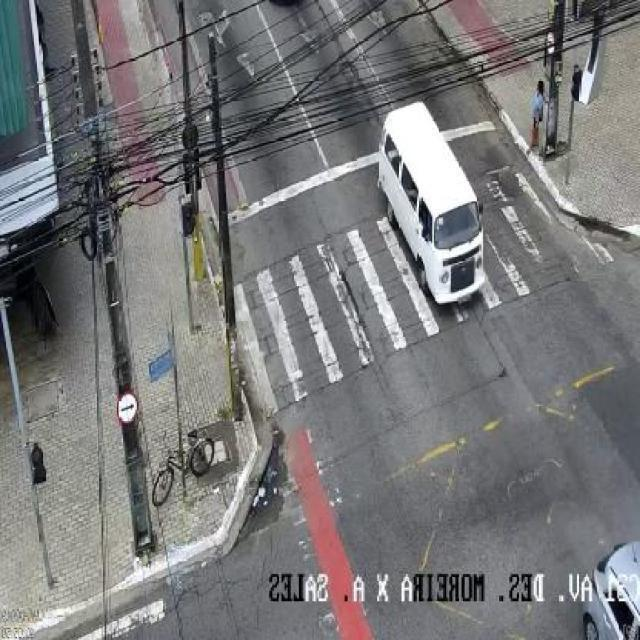Car: (579, 537, 640, 640)
Cycle: (152, 429, 215, 508)
Van: (374, 99, 486, 305)
